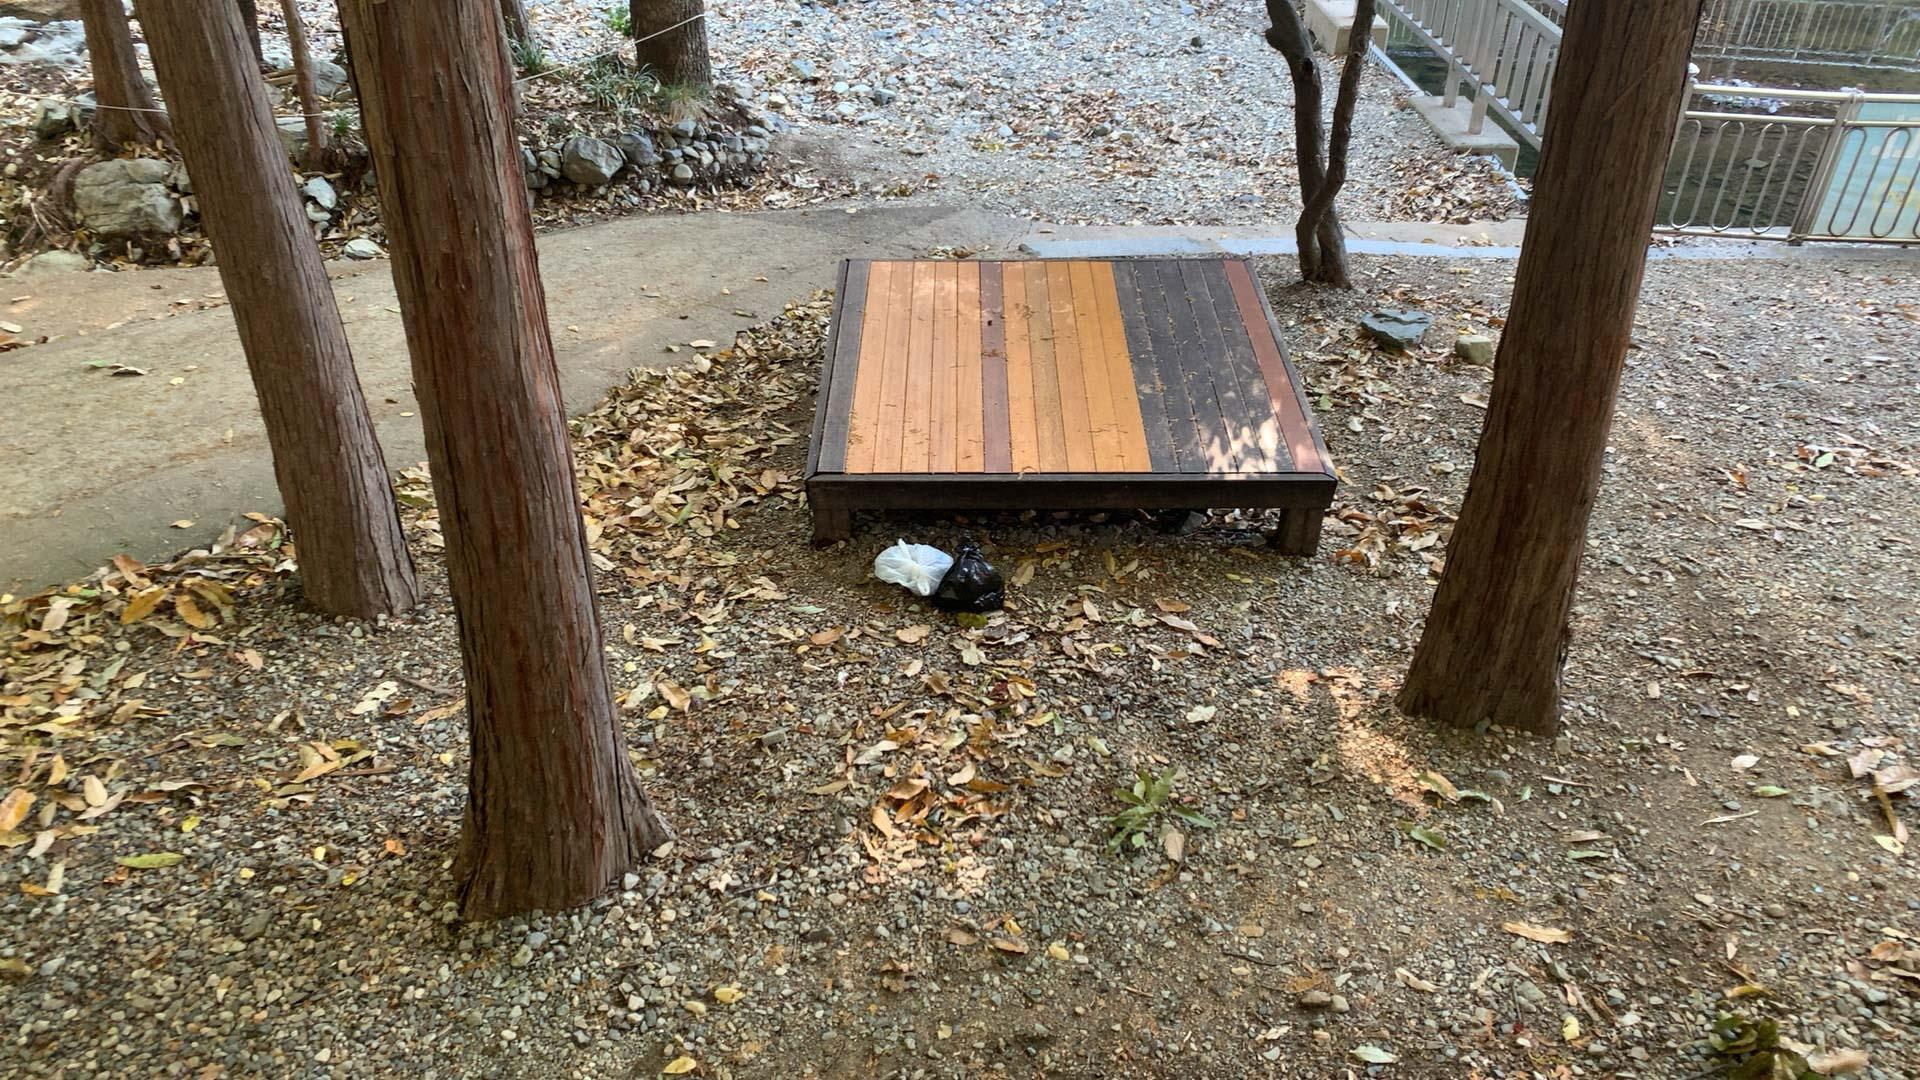black_bag: (936, 534, 1007, 613)
white_bag: (868, 533, 955, 599)
